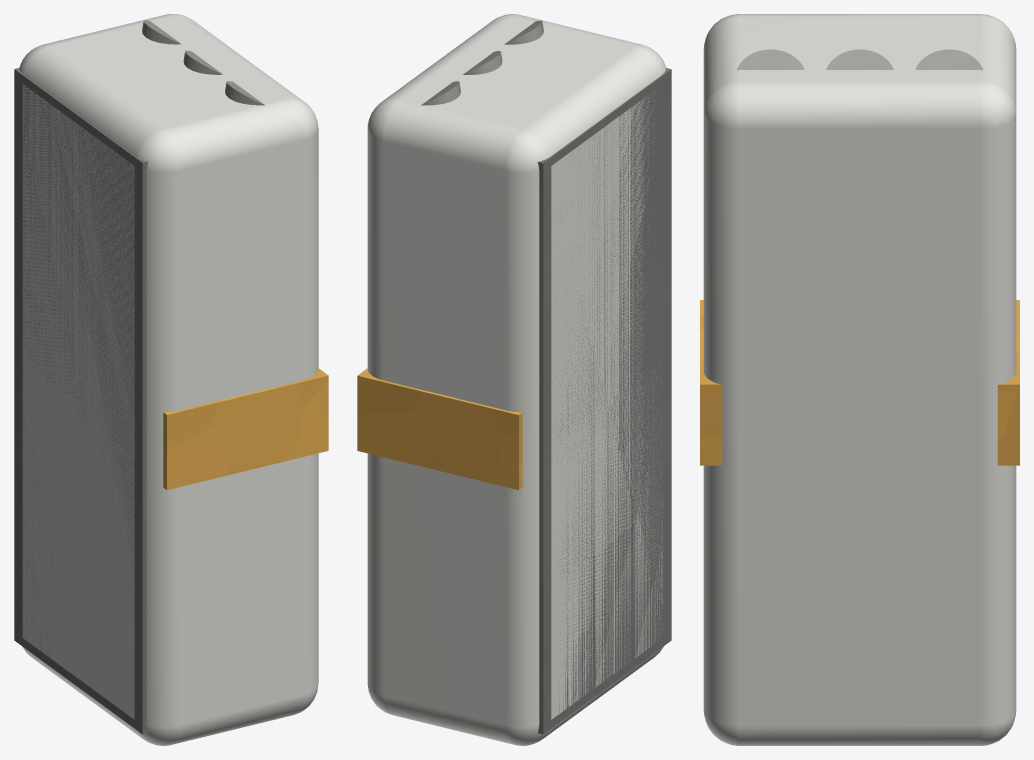
File: prop22_ullage_motor_pack_retro.glb
3 renders of one model, left to right at view 1: azimuth 30°, elevation 25°; view 2: azimuth 150°, elevation 25°; view 3: azimuth 270°, elevation 25°, orthographic. The views are drawn at different scales.
Parts seen in each view (by area): view 1: fairing, mount_plate, gold_band, nozzles; view 2: fairing, mount_plate, gold_band, nozzles; view 3: fairing, gold_band, nozzles.
Part boxes in pixels (box(x1,y1,x2,y2)): fairing: box(19, 14, 318, 745); mount_plate: box(14, 67, 147, 734); gold_band: box(163, 368, 328, 489); nozzles: box(142, 20, 264, 105); fairing: box(367, 14, 666, 745); mount_plate: box(537, 68, 671, 734); gold_band: box(357, 368, 522, 490); nozzles: box(421, 20, 543, 105); fairing: box(703, 14, 1016, 745); gold_band: box(700, 300, 1019, 465); nozzles: box(736, 49, 983, 70).
Size of the model in its own units: 0.25 by 0.8311 by 0.358.
Materials: 4 (3 with a texture image).
